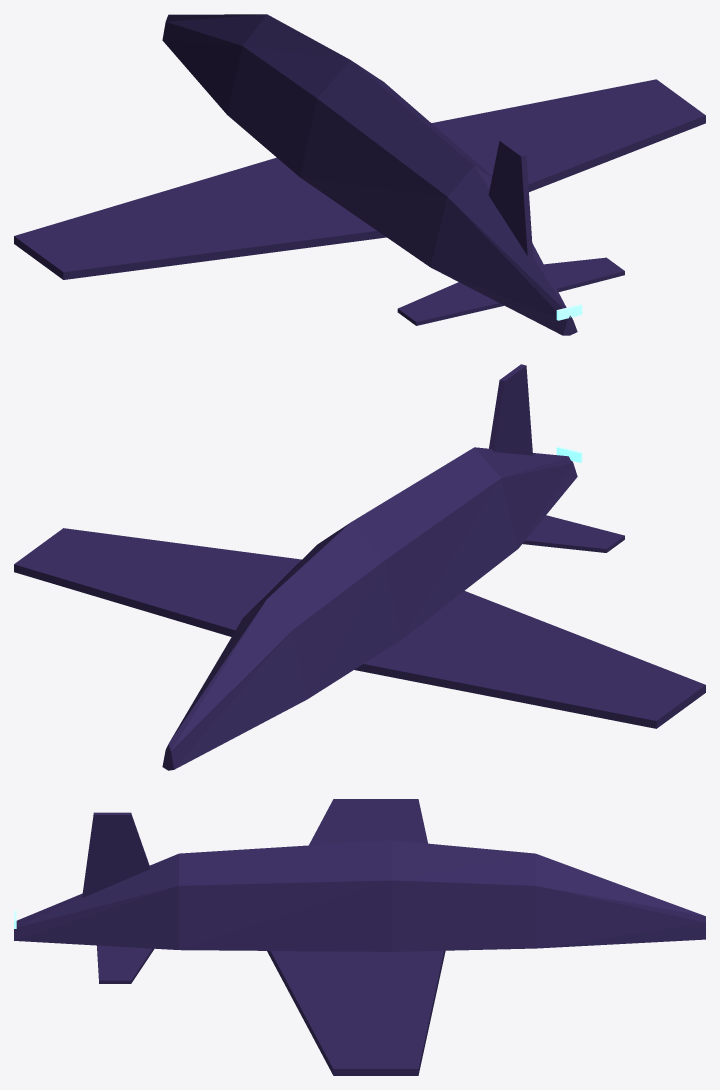
Rendered from 04_vector_cargo_lifter.glb.
The picture shows the model from 3 angles, top to bottom: view 1: azimuth 30°, elevation 25°; view 2: azimuth 150°, elevation 25°; view 3: azimuth 270°, elevation 25°; orthographic projection. The views are drawn at different scales.
Parts seen in each view (by area): view 1: fuselage_0, wing_1, wing_2, fin_5, tailplane_3, tailplane_4; view 2: fuselage_0, wing_1, wing_2, fin_5, tailplane_3; view 3: fuselage_0, wing_2, wing_1, fin_5, tailplane_4.
Boxes of the visible parts, box(x1,y1,x2,y2) form: fuselage_0: box(162, 14, 577, 335); wing_1: box(14, 157, 386, 279); wing_2: box(431, 79, 705, 191); fin_5: box(488, 139, 533, 256); tailplane_3: box(397, 282, 504, 325); tailplane_4: box(544, 257, 624, 292); fuselage_0: box(162, 447, 577, 770); wing_1: box(354, 591, 705, 728); wing_2: box(14, 528, 301, 636); fin_5: box(489, 364, 532, 455); tailplane_3: box(523, 515, 624, 552); fuselage_0: box(14, 840, 705, 951); wing_2: box(267, 950, 445, 1075); wing_1: box(309, 799, 427, 845); fin_5: box(82, 812, 149, 897); tailplane_4: box(97, 945, 154, 983).
Bounding box in the file's own units: 24 × 5.27 × 26.
